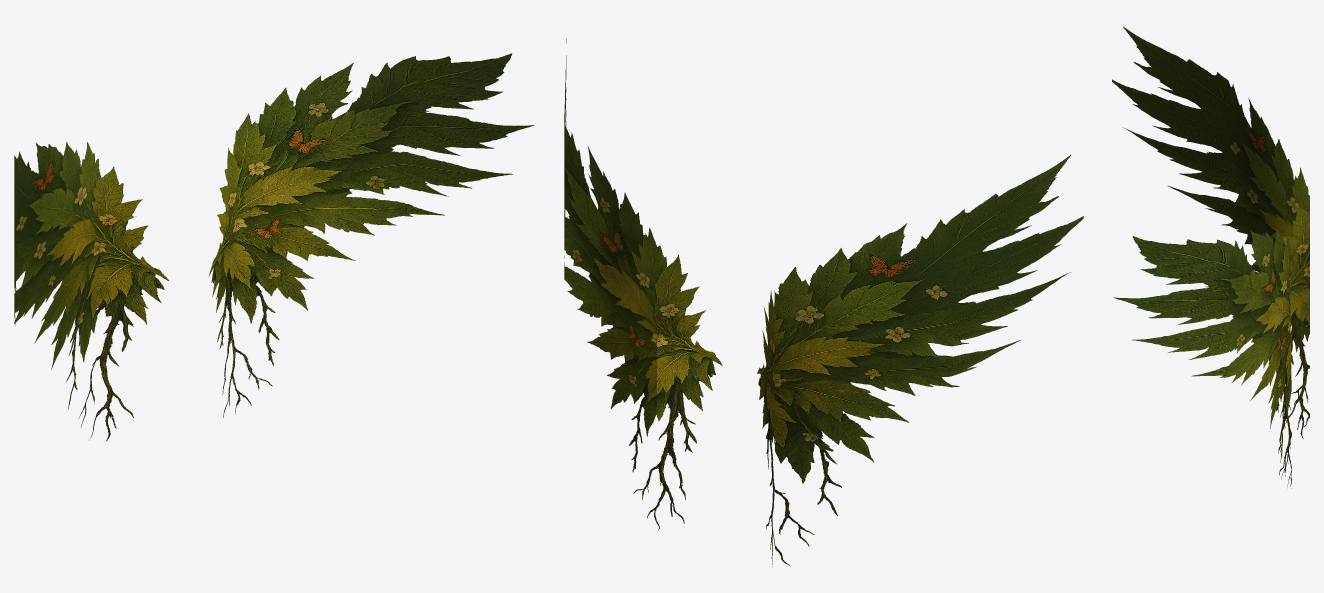
The model's file is canh4.fbx.
The picture shows the model from 3 angles, left to right: view 1: azimuth 30°, elevation 25°; view 2: azimuth 150°, elevation 25°; view 3: azimuth 270°, elevation 25°; orthographic projection. The views are drawn at different scales.
Parts seen in each view (by area): view 1: canh4; view 2: canh4; view 3: canh4.
Boxes of the visible parts, box(x1,y1,x2,y2) form: canh4: box(14, 53, 534, 441); canh4: box(564, 38, 1083, 566); canh4: box(1112, 26, 1309, 488).
Bounding box in the file's own units: 1.81 × 1.34 × 0.6941.
